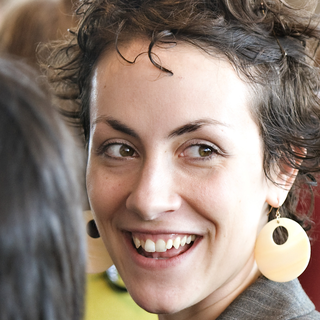eye: (177, 138, 225, 164), (97, 139, 141, 164)
